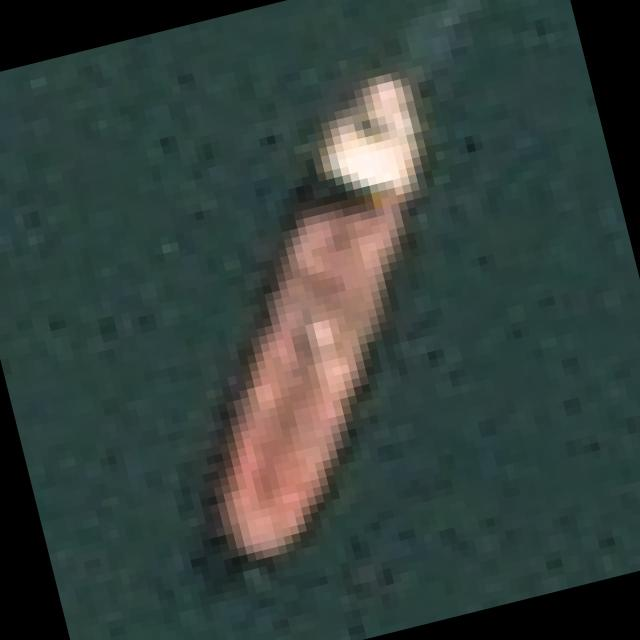ship: (69, 30, 567, 606)
